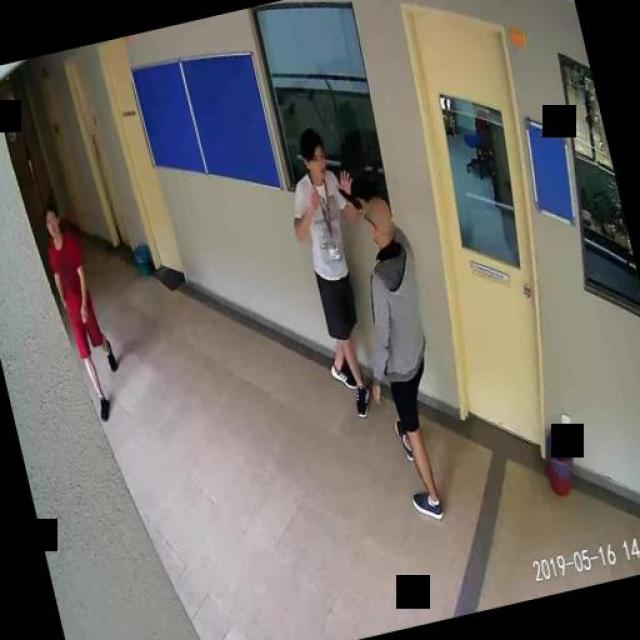gun: (335, 184, 363, 215)
